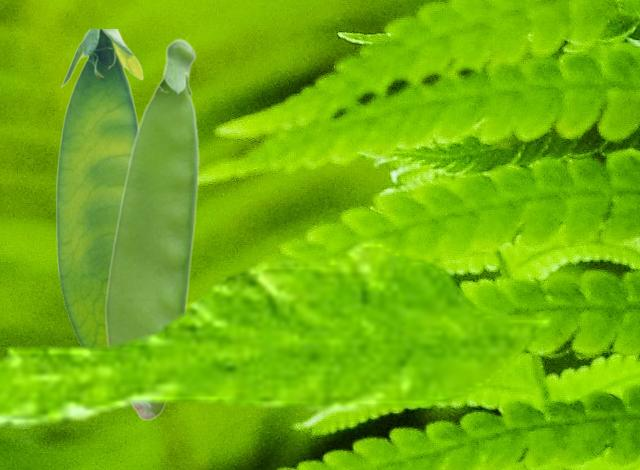pea: (104, 37, 199, 420), (55, 29, 144, 344)
